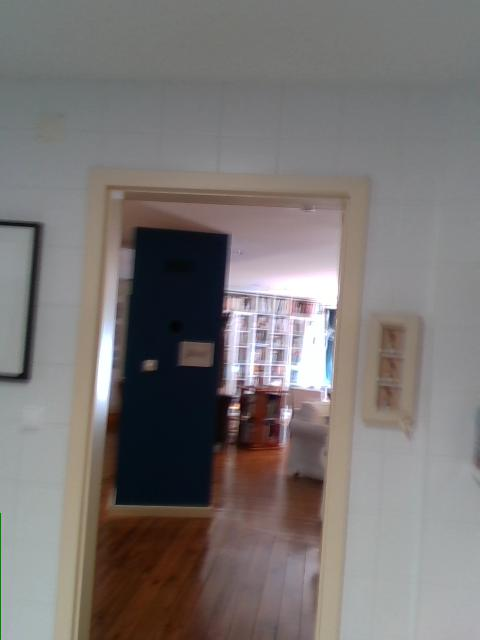open_door: (54, 167, 371, 639)
